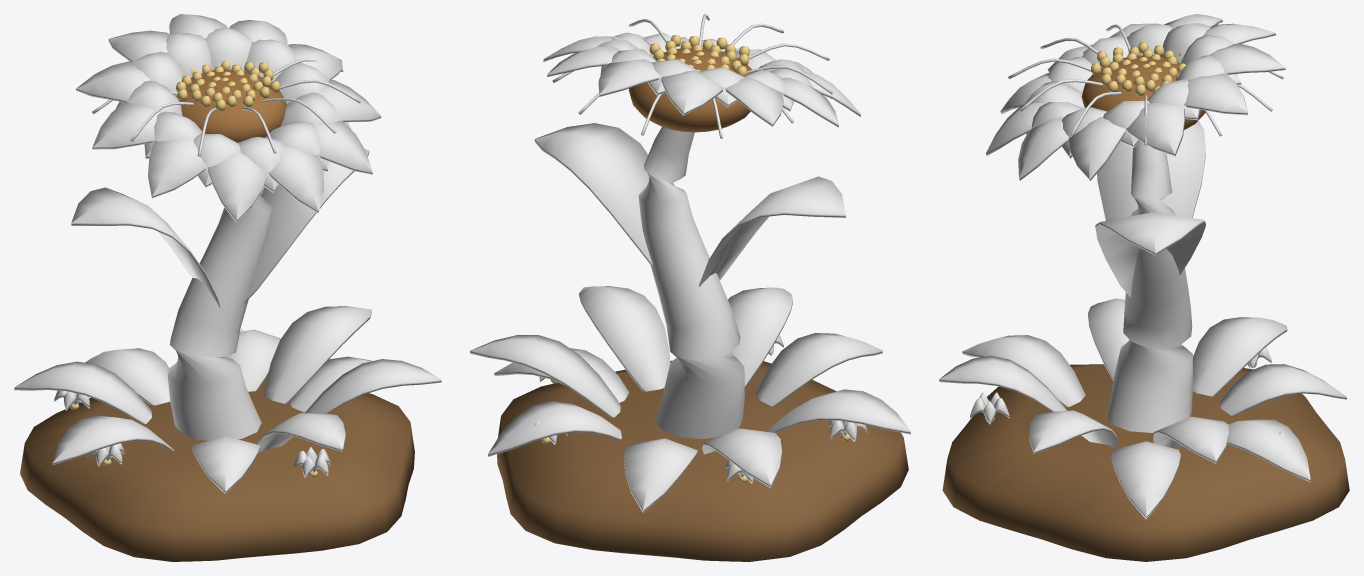
The model's file is blossom-2.fbx.
The picture shows the model from 3 angles, left to right: view 1: azimuth 30°, elevation 25°; view 2: azimuth 150°, elevation 25°; view 3: azimuth 270°, elevation 25°; orthographic projection. The views are drawn at different scales.
Parts seen in each view (by area): view 1: Base_Organic, FlowerHead_Petal, Base_Leaf, LivingStem, Petals_Leaf, Core_Organic, Turret_Petal, Base_Petal; view 2: Base_Organic, Base_Leaf, LivingStem, FlowerHead_Petal, Petals_Leaf, Core_Organic, Turret_Petal, Base_Petal; view 3: Base_Organic, Base_Leaf, FlowerHead_Petal, LivingStem, Petals_Leaf, Core_Organic, Turret_Petal, Base_Petal.
Boxes of the visible parts, x1,y1,x2,y2 form: Base_Organic: (20,375,414,561); FlowerHead_Petal: (75,14,381,222); Base_Leaf: (14,306,441,493); LivingStem: (167,186,271,440); Petals_Leaf: (71,149,369,307); Core_Organic: (176,60,286,142); Turret_Petal: (92,58,361,156); Base_Petal: (54,329,330,477); Base_Organic: (497,360,908,561); Base_Leaf: (470,286,910,512); LivingStem: (638,127,744,438); FlowerHead_Petal: (543,32,860,127); Petals_Leaf: (534,123,845,286); Core_Organic: (629,35,753,132); Turret_Petal: (552,14,833,138); Base_Petal: (534,335,867,483); Base_Organic: (942,363,1349,561); Base_Leaf: (939,298,1346,519); FlowerHead_Petal: (986,14,1285,180); LivingStem: (1106,140,1192,432); Petals_Leaf: (1095,121,1205,297); Core_Organic: (1081,42,1205,129); Turret_Petal: (1008,24,1283,145); Base_Petal: (970,347,1285,437).
Size of the model in its own units: 97.28 by 109 by 88.94.
